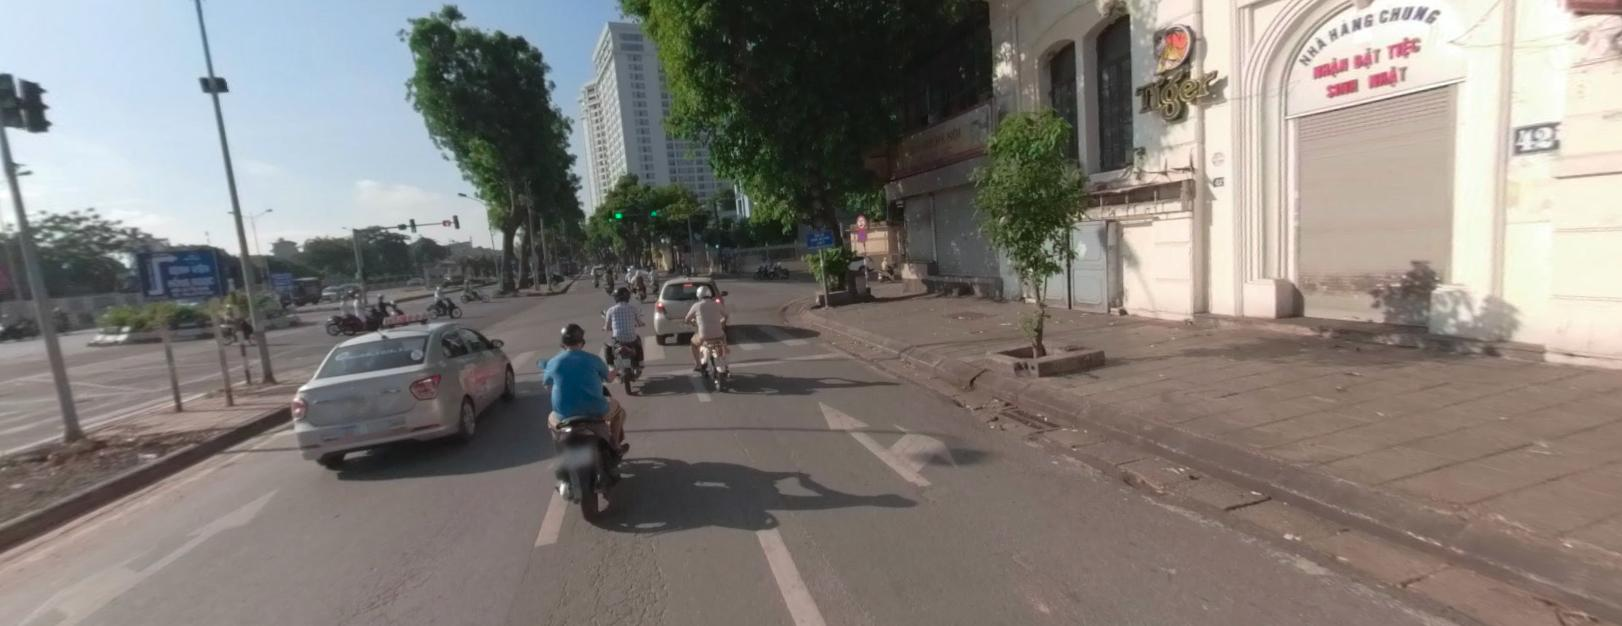Cam con lai: (854, 212, 866, 227)
Cam dung va do: (855, 226, 867, 241)
